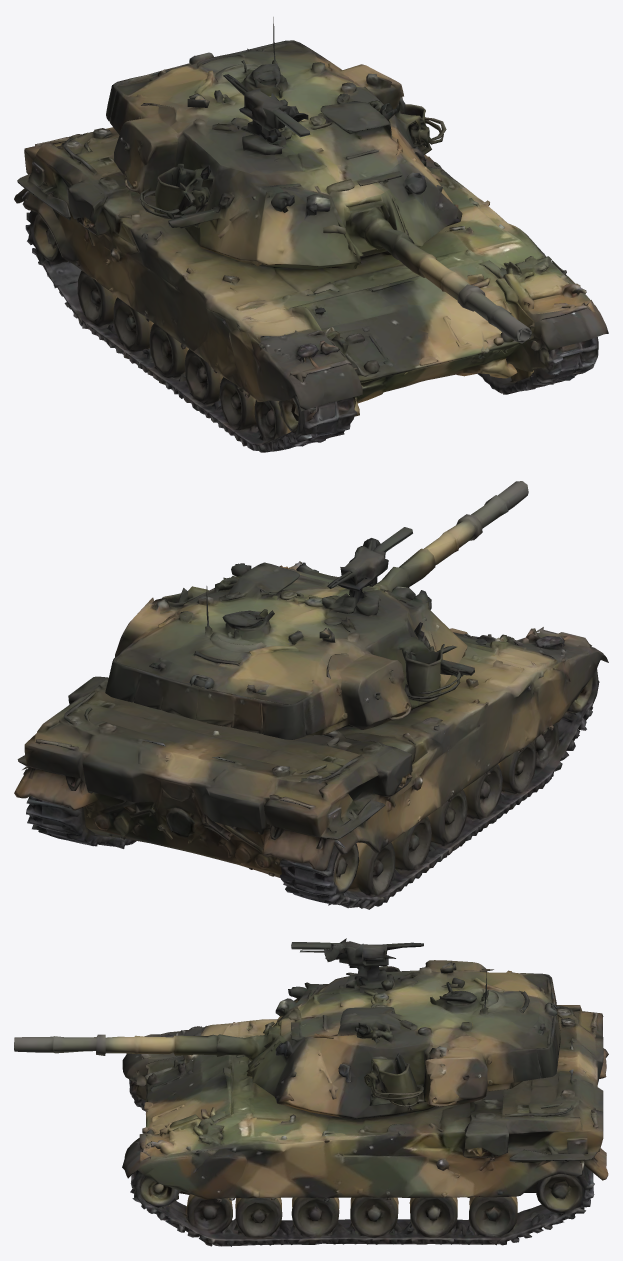
The model's file is tank.glb.
3 renders of one model, top to bottom at view 1: azimuth 30°, elevation 25°; view 2: azimuth 150°, elevation 25°; view 3: azimuth 270°, elevation 25°, orthographic. The views are drawn at different scales.
Visible parts, largest first — view 1: tripo_node_ac9faefe-f0e7-4ea0-9597-dd034e08d2be; view 2: tripo_node_ac9faefe-f0e7-4ea0-9597-dd034e08d2be; view 3: tripo_node_ac9faefe-f0e7-4ea0-9597-dd034e08d2be.
Boxes of the visible parts, <box> form: tripo_node_ac9faefe-f0e7-4ea0-9597-dd034e08d2be: <box>14,17,608,452</box>; tripo_node_ac9faefe-f0e7-4ea0-9597-dd034e08d2be: <box>14,481,608,909</box>; tripo_node_ac9faefe-f0e7-4ea0-9597-dd034e08d2be: <box>14,938,608,1246</box>.
Bounding box in the file's own units: 0.5258 × 0.4317 × 1.
1 material, 1 textured.
